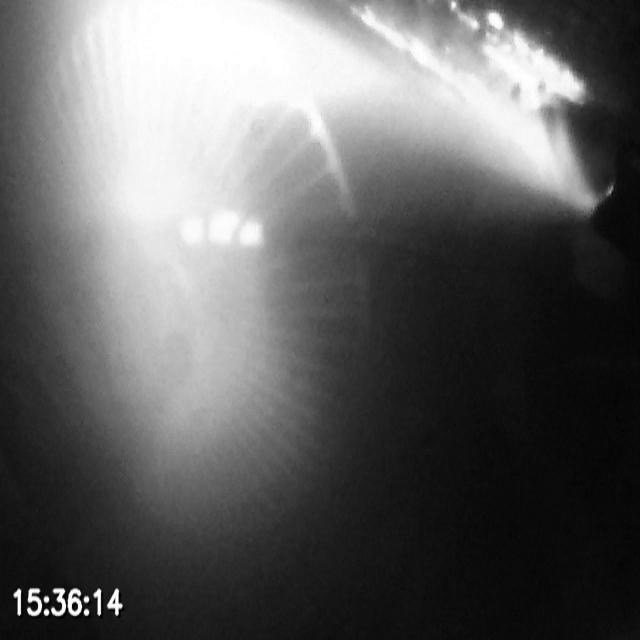white-dots: (176, 207, 264, 248)
